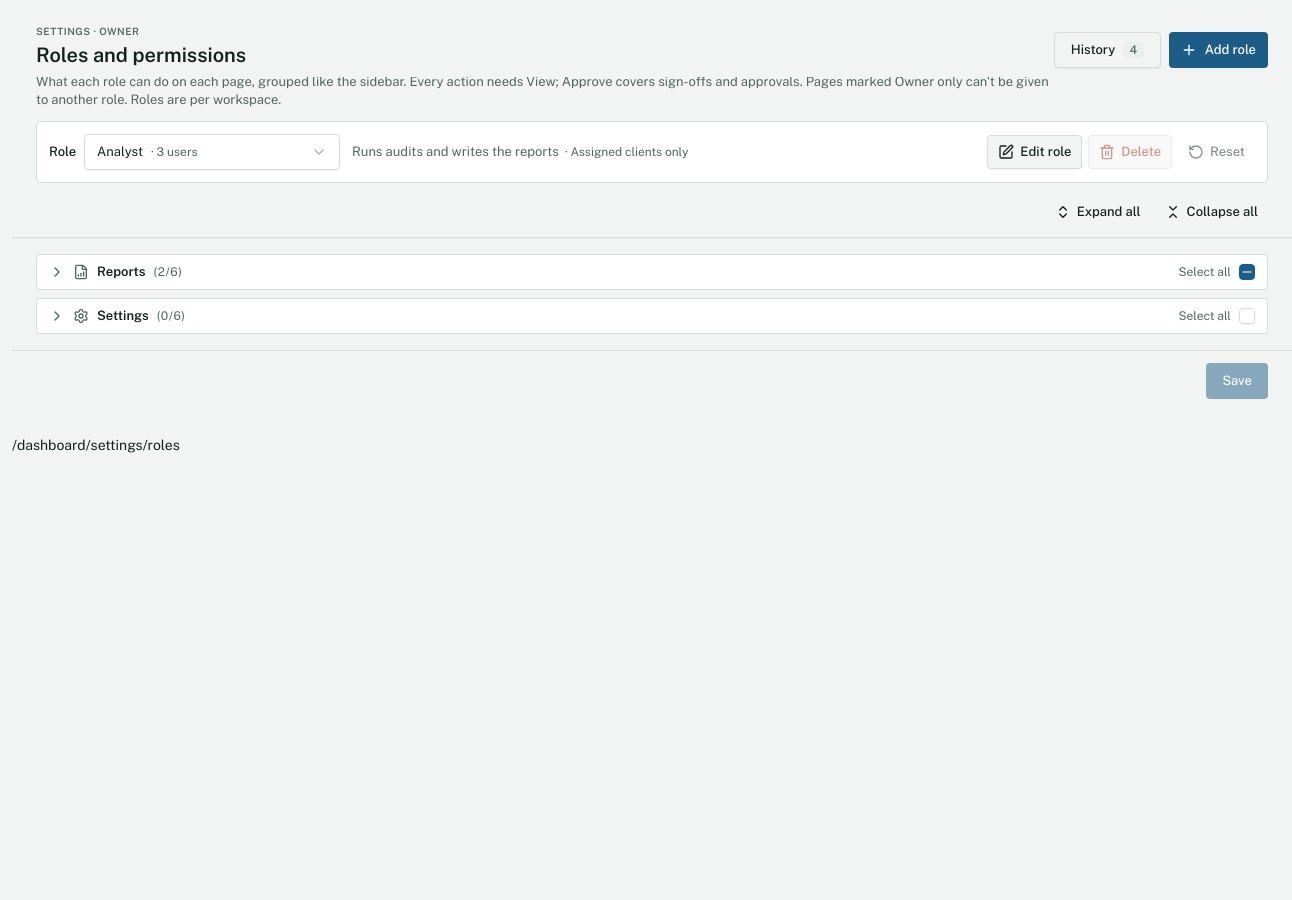
it: RolesPage › select all works per group and per action, but never on Owner-only pages
Expected: the dropdown named "Role" is shown, 84,134 -> 340,170
Click the button "Settings (0/6)" at (123, 316), box 49,307 -> 1166,325
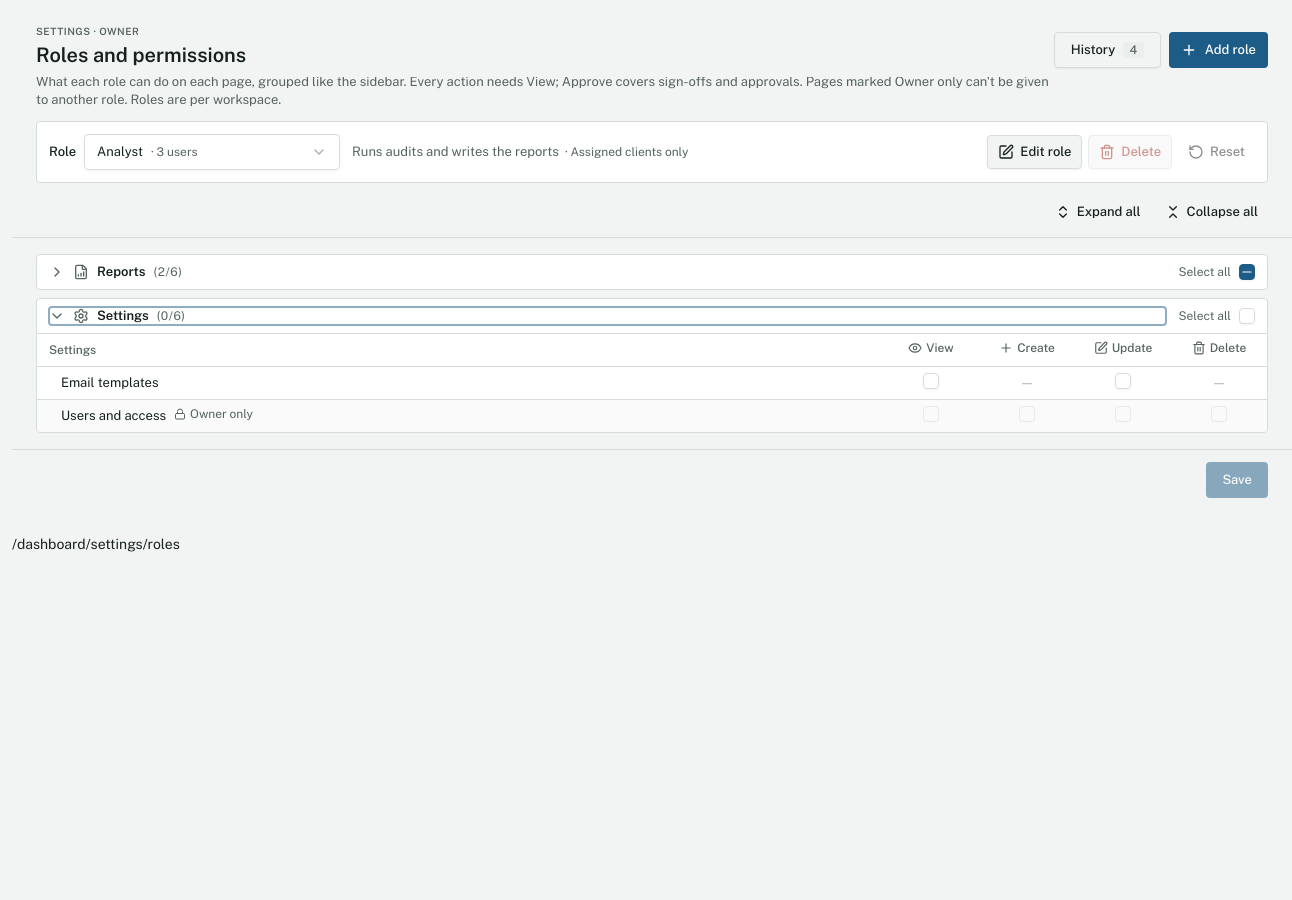
Click the checkbox named "Select all: Settings" at (1247, 316), box 1239,308 -> 1255,324
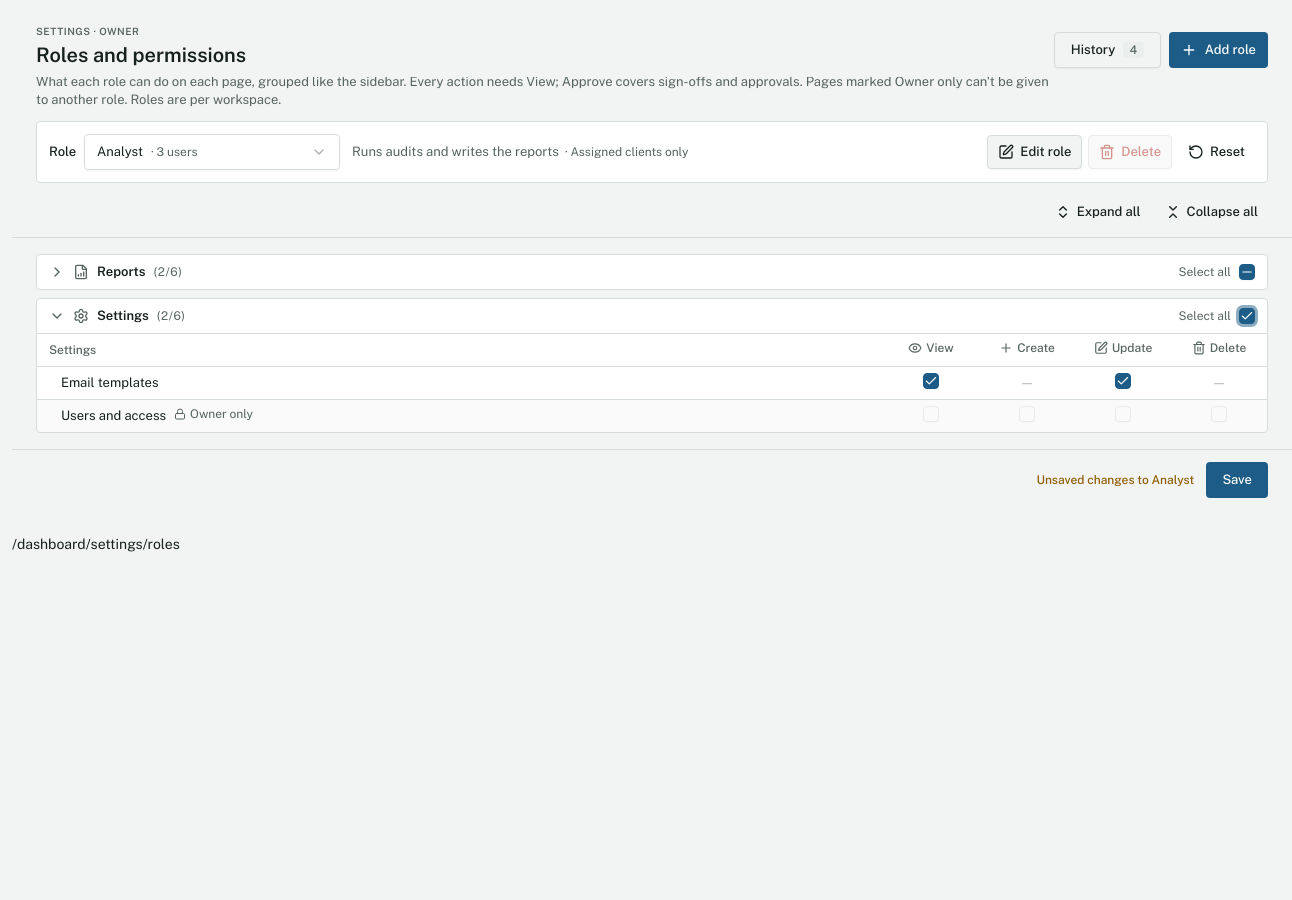
Result: the checkbox named "Update Email templates" is checked at 1115,372 -> 1131,388
Click the button "Reports (2/6)" at (121, 272), box 49,263 -> 1166,281
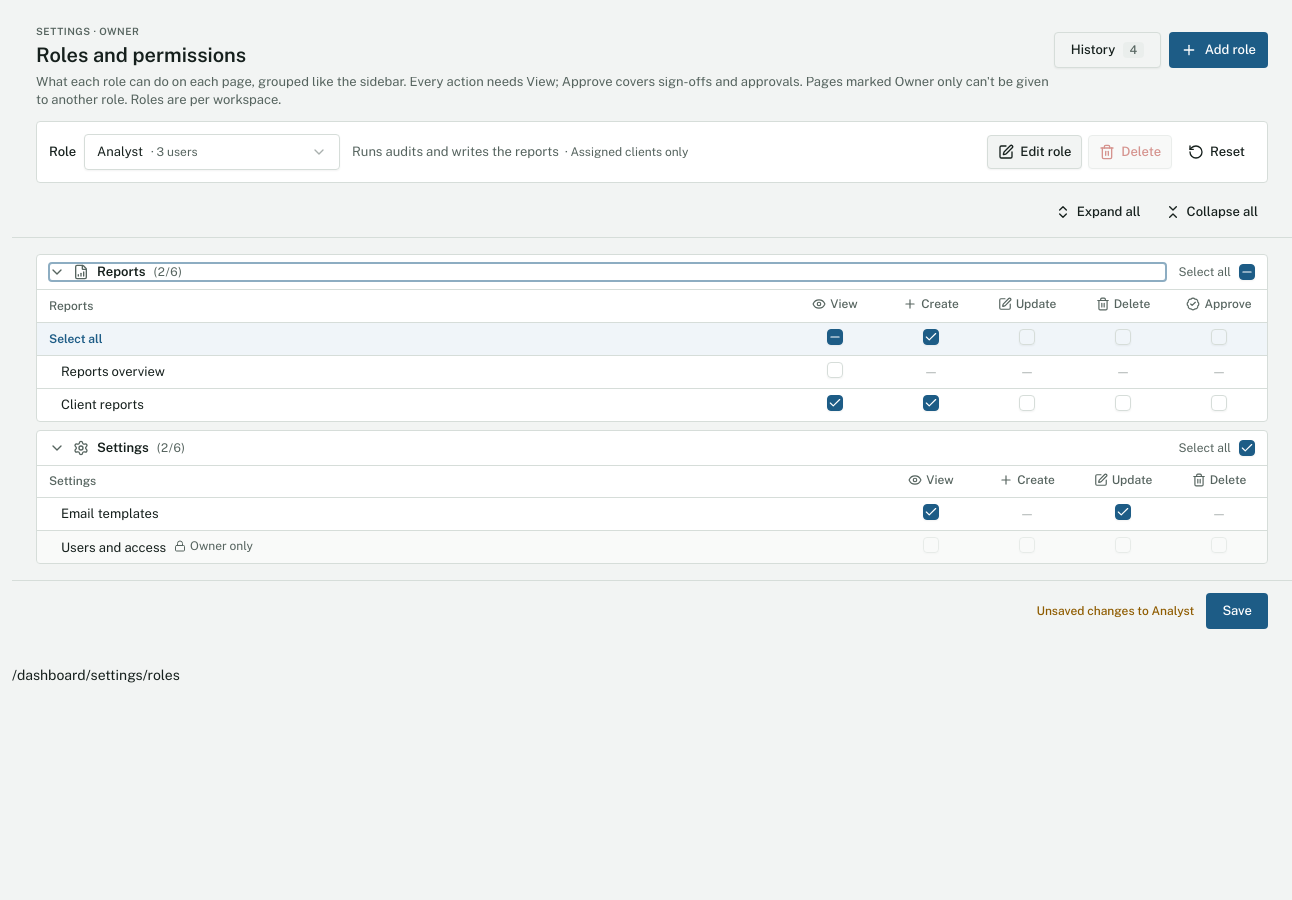
Click the checkbox named "Approve: every Reports page" at (1219, 336), box 1211,328 -> 1227,344
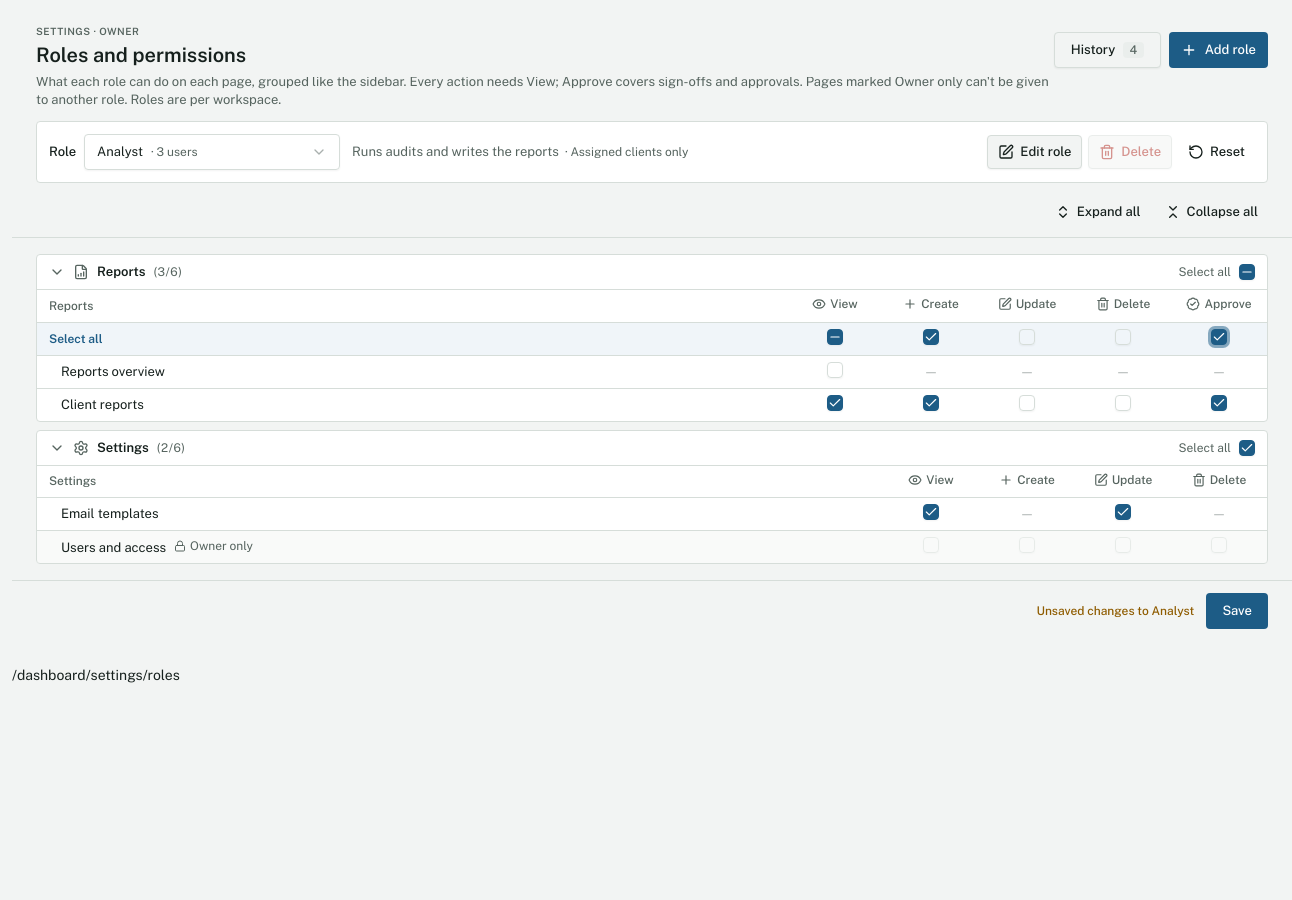
Result: the checkbox named "View Client reports" is checked at 827,394 -> 843,410
Result: the checkbox named "Approve Client reports" is checked at 1211,394 -> 1227,410
Click the button "Reset" at (1217, 152), box 1178,135 -> 1255,169
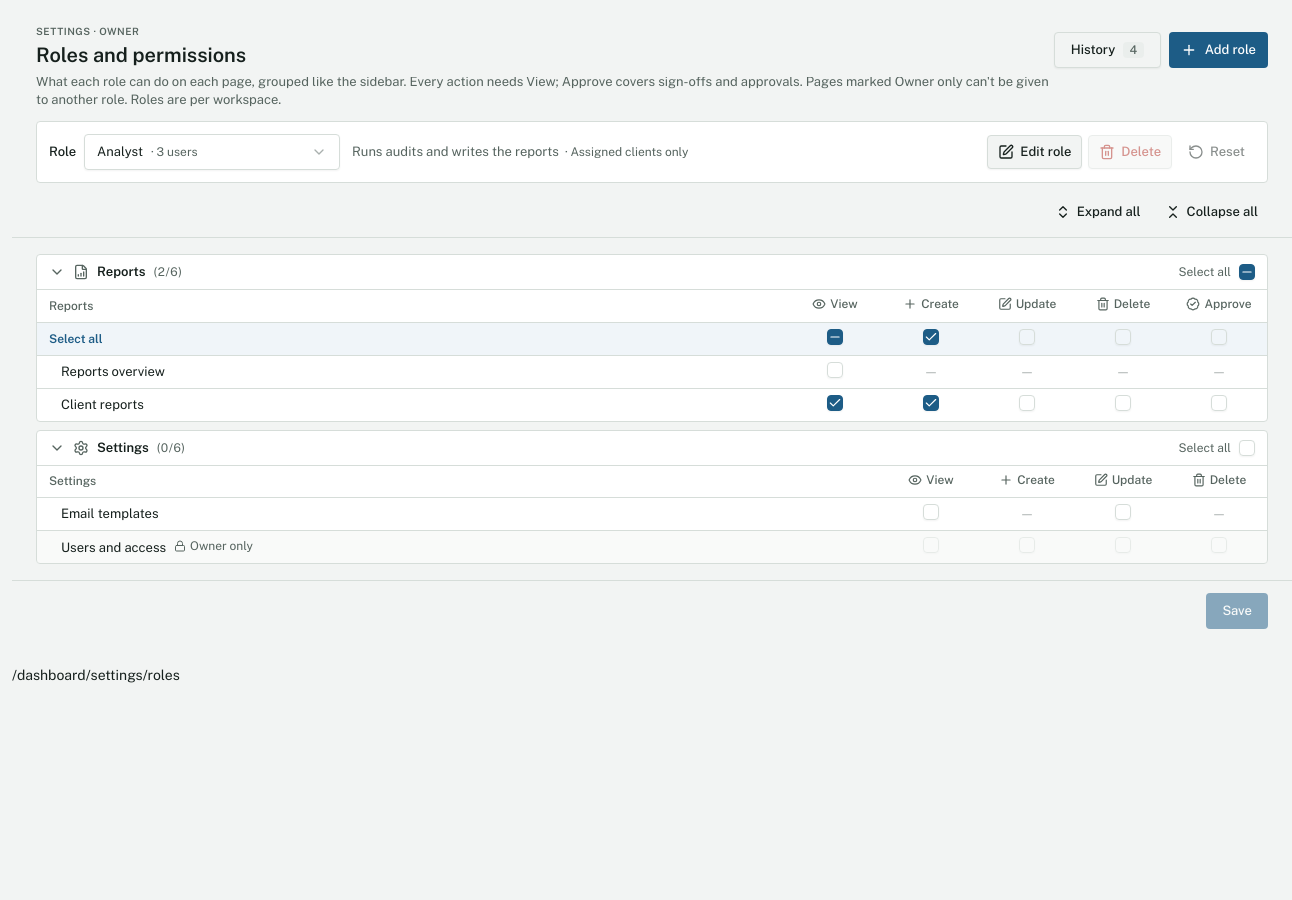
Result: the checkbox named "Approve Client reports" is not checked at 1211,394 -> 1227,410
Result: the text "Unsaved changes" is gone
